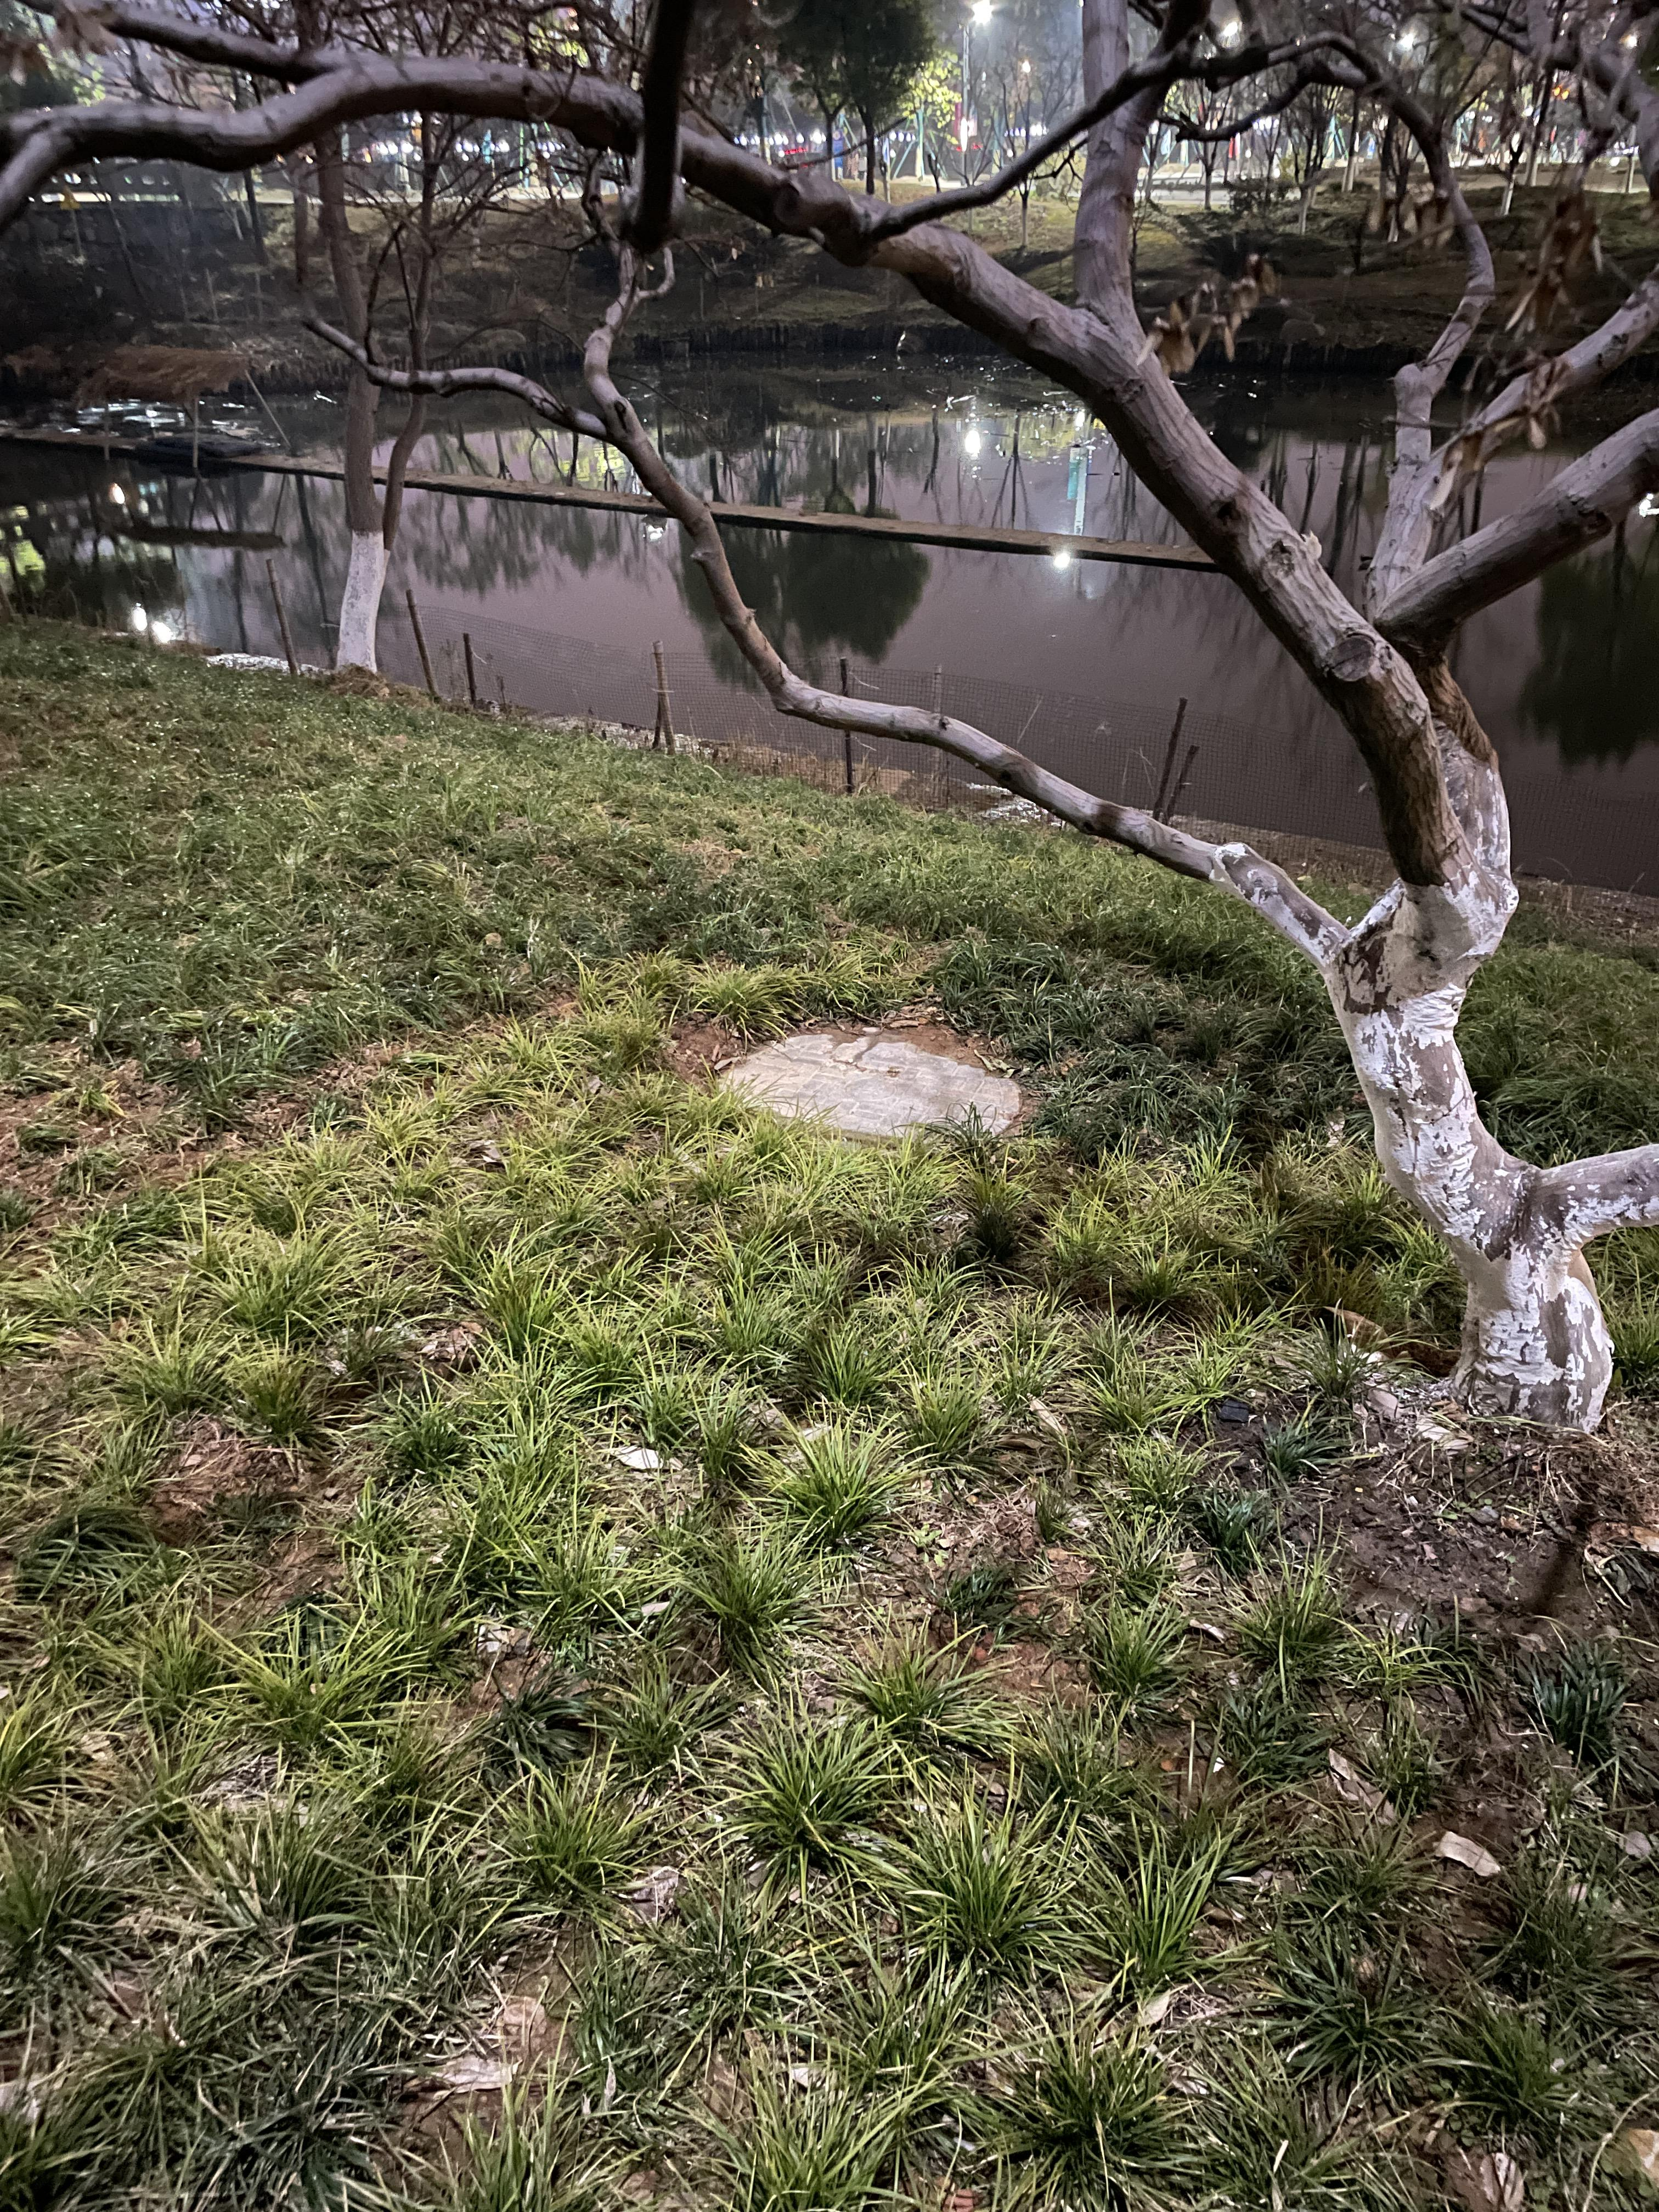wellcover: (682, 1011, 1049, 1178)
